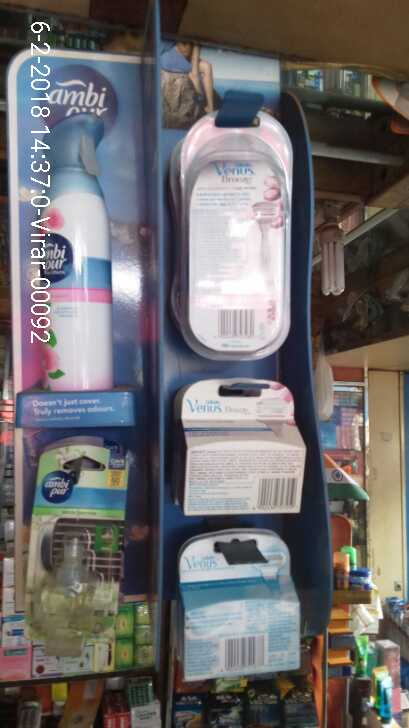home: (28, 443, 141, 655), (40, 113, 118, 391)
